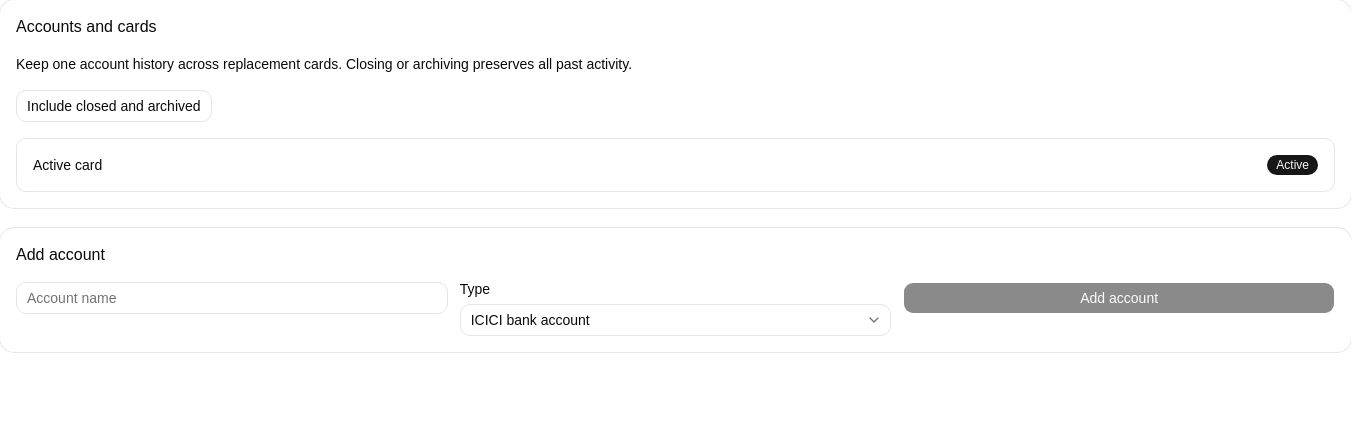
Test: expense workflows › hides closed accounts only from the active list, with an explicit history toggle
Expected: the text "Old card" is not shown
Step 1. Click the button "Include closed and archived" → (114, 106), box [16,90,212,122]
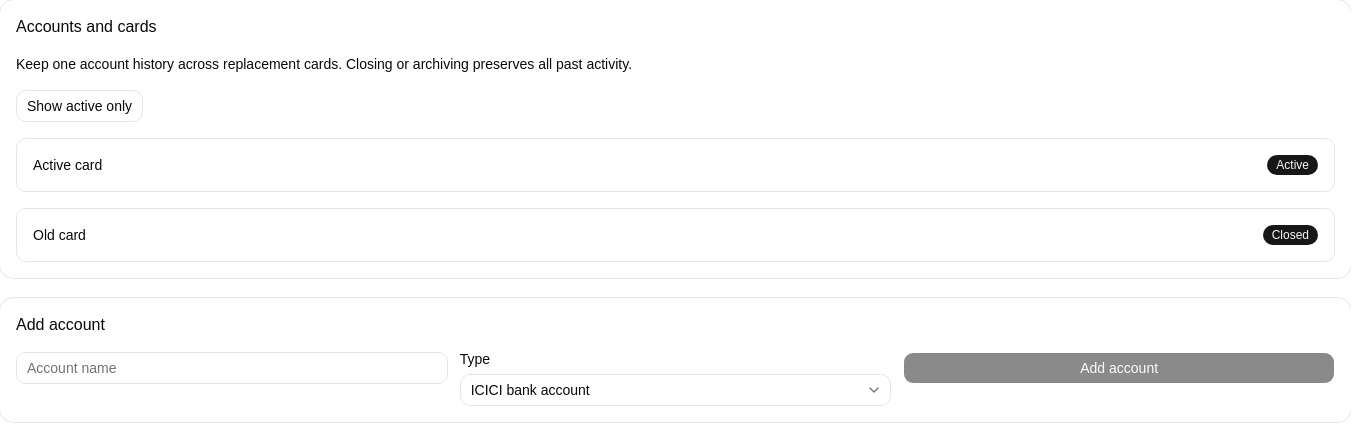
Now the text "Old card" is shown, box [33,225,86,245]
